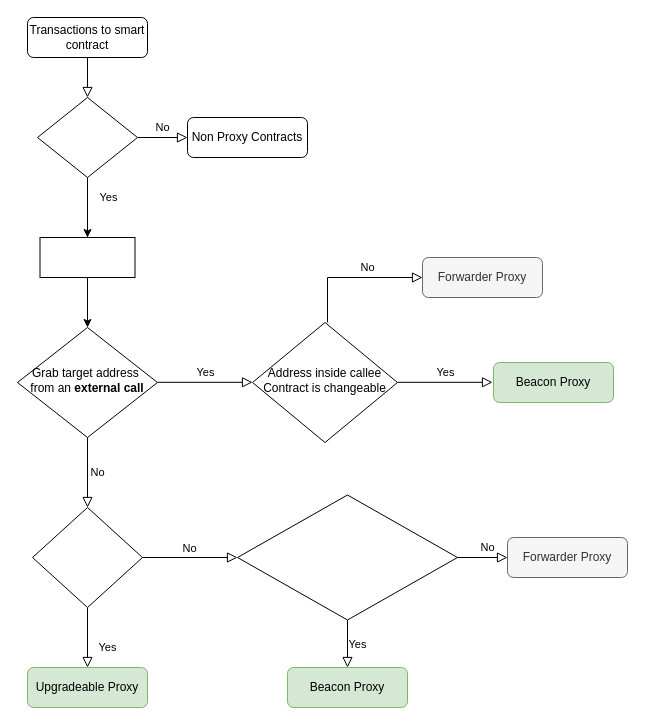
Some shapes in this 645 by 725 pixel diagram are drawn without their labels. Each missing label, with the centre of its shape:
Can change target address Inside Implementation contract: point 347,557
Can change target address Inside proxy: point 87,557
Going through Proxy: point 87,137
Proxy Contracts: point 87,257
